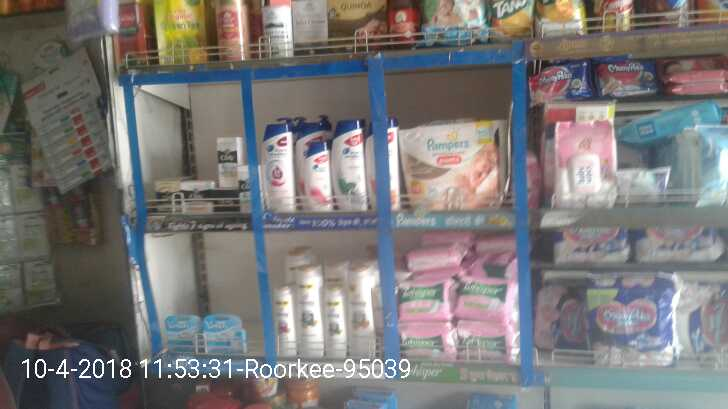venus: (206, 313, 246, 355), (168, 312, 206, 355)
